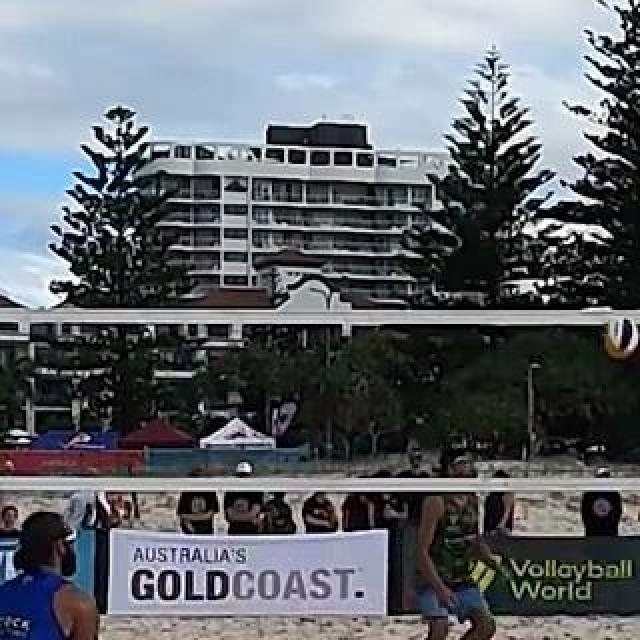volleyball: (602, 319, 636, 359)
